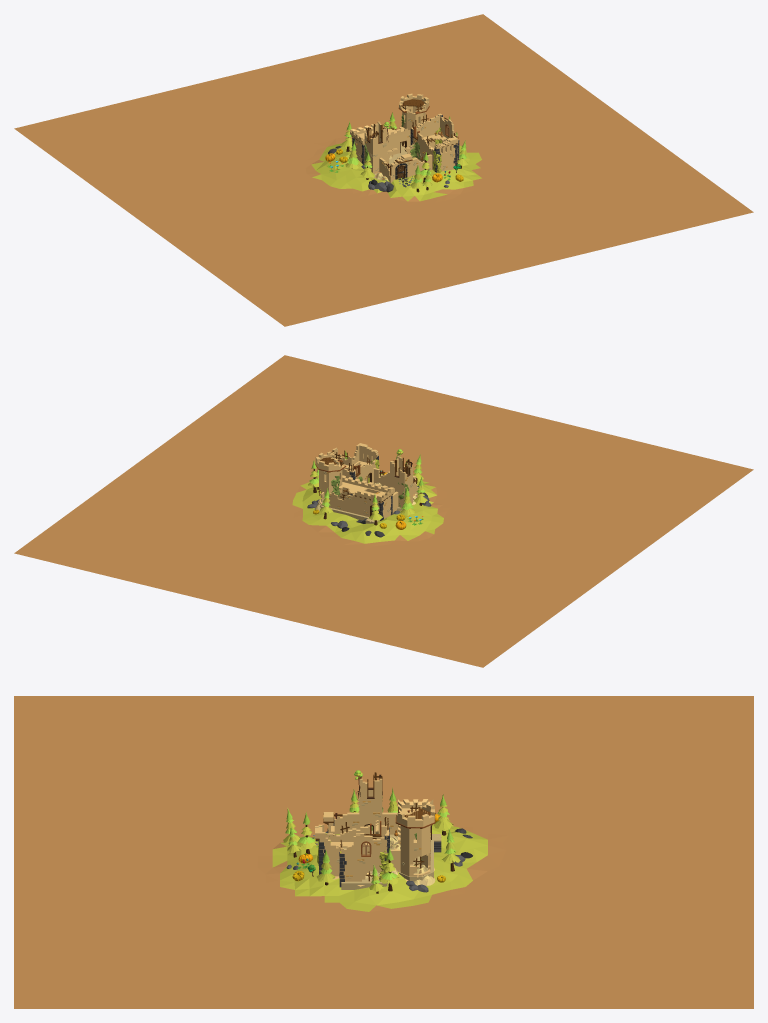
Rendered from Low_poly_castle_in_ruins.glb.
3 views of the same model, one above another, from view 1: azimuth 30°, elevation 25°; view 2: azimuth 150°, elevation 25°; view 3: azimuth 270°, elevation 25° (orthographic). The views are drawn at different scales.
Visible parts, largest first — view 1: unnamed (×7); view 2: unnamed (×7); view 3: unnamed (×8).
Boxes of the visible parts, <box> form: unnamed (×7): <box>14,14,753,326</box>; unnamed (×7): <box>14,355,753,667</box>; unnamed (×8): <box>14,696,753,1008</box>.
Size of the model in its own units: 82.04 by 10.22 by 82.04.
1 material, 1 textured.
